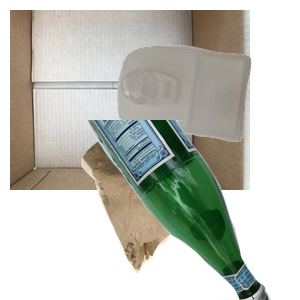cardboard: (10, 10, 250, 190)
glass: (75, 120, 300, 300)
plastic: (115, 43, 300, 177)
trash: (79, 123, 281, 300)
